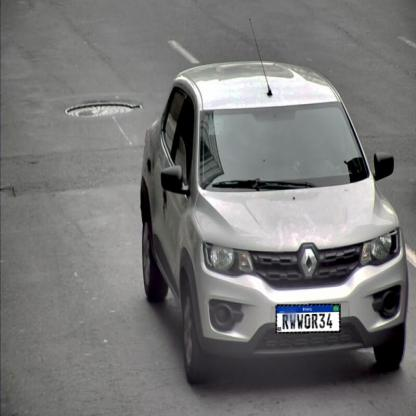PlacaM: (276, 304, 340, 334)
